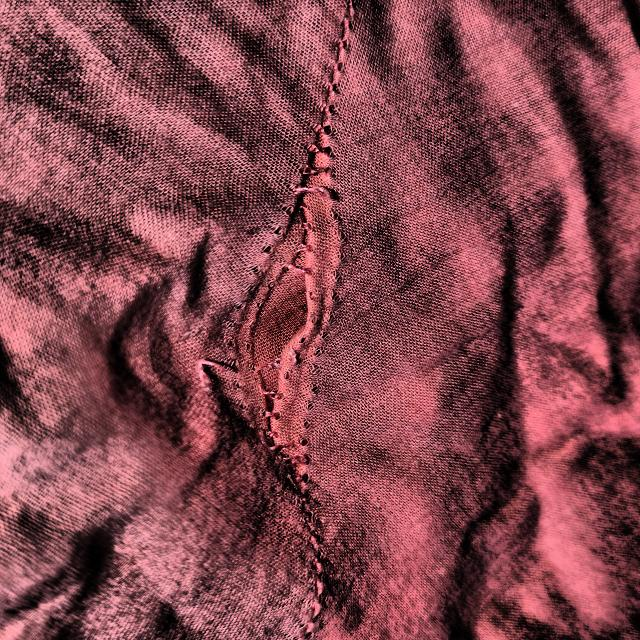seam: (192, 120, 414, 519)
